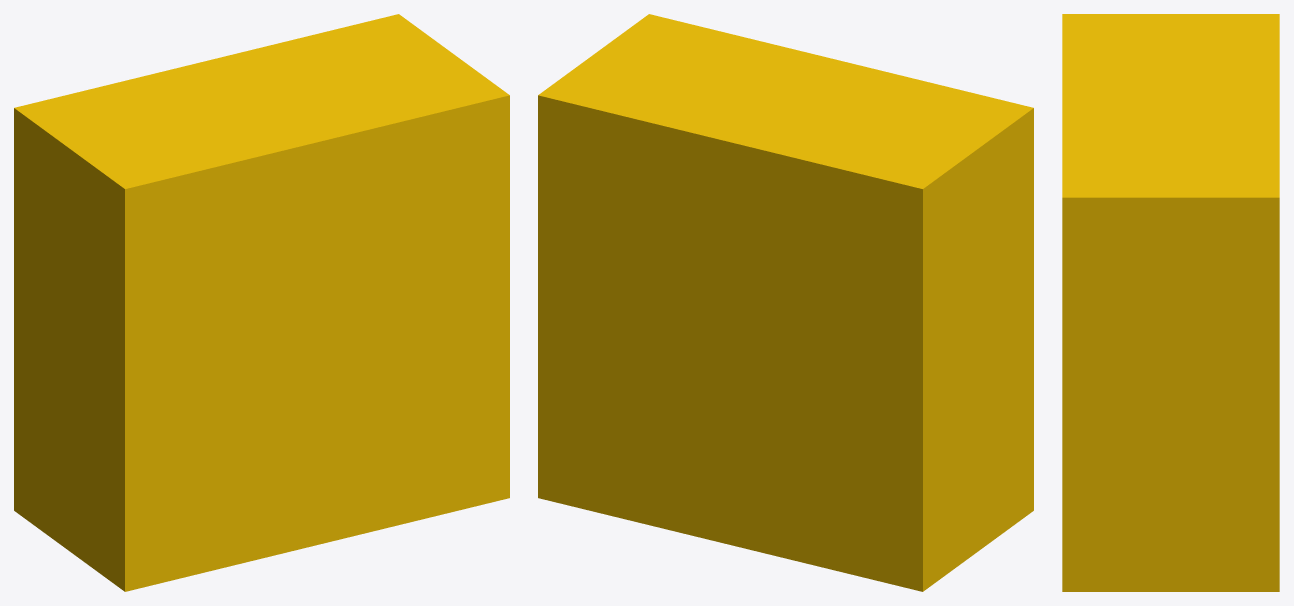
The model's file is O_Tetromino.obj.
3 views of the same model, side by side, from view 1: azimuth 30°, elevation 25°; view 2: azimuth 150°, elevation 25°; view 3: azimuth 270°, elevation 25° (orthographic). The views are drawn at different scales.
Visible parts, largest first — view 1: O_Tetromino; view 2: O_Tetromino; view 3: O_Tetromino.
Part boxes in pixels (box(x1,y1,x2,y2)): O_Tetromino: box(14, 14, 509, 591); O_Tetromino: box(538, 14, 1033, 591); O_Tetromino: box(1062, 14, 1279, 591).
Bounding box in the file's own units: 2 × 2 × 1.
